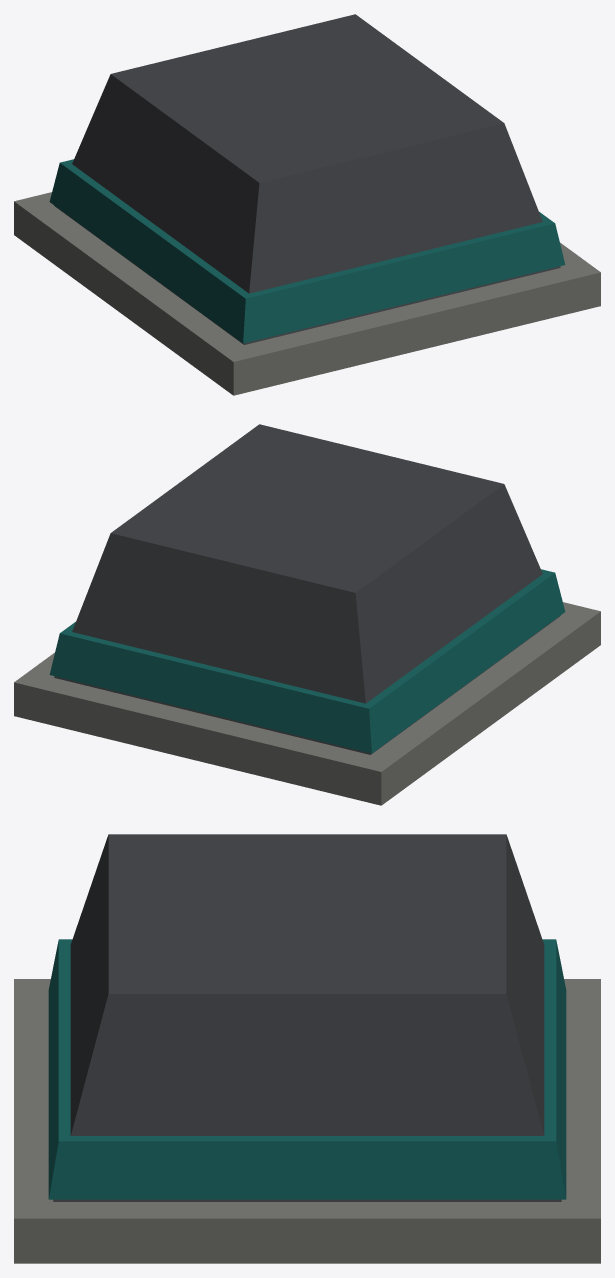
File: gear_head_militia_helmet.glb
The picture shows the model from 3 angles, top to bottom: view 1: azimuth 30°, elevation 25°; view 2: azimuth 150°, elevation 25°; view 3: azimuth 270°, elevation 25°; orthographic projection. The views are drawn at different scales.
Visible parts, largest first — view 1: head; view 2: head; view 3: head.
Part boxes in pixels (box(x1,y1,x2,y2)): head: box(14, 14, 600, 395); head: box(14, 424, 600, 805); head: box(14, 834, 600, 1263).
Size of the model in its own units: 0.285 by 0.1275 by 0.295.
